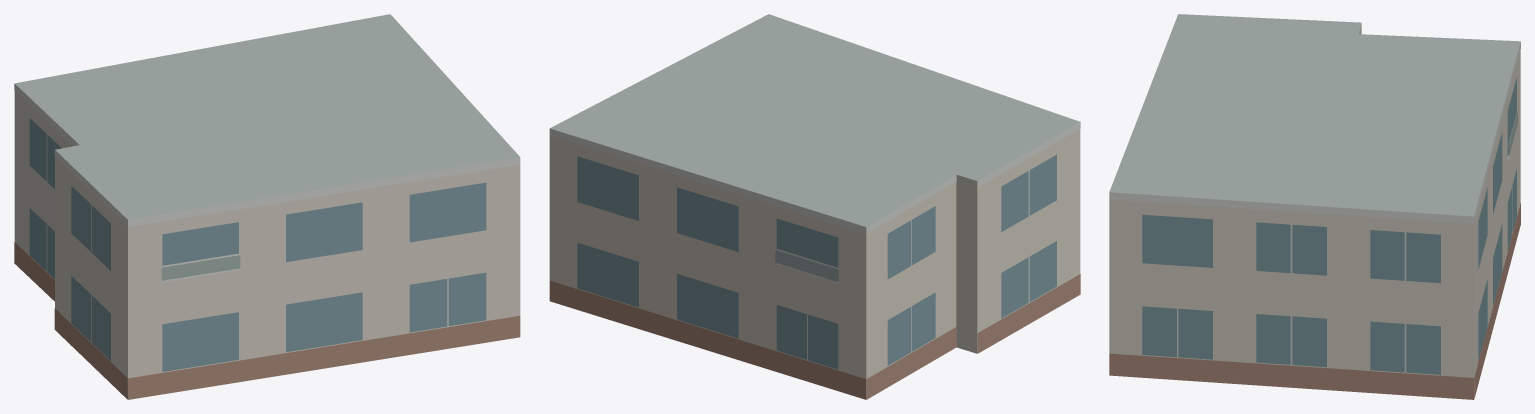
Rendered from survey-upis-32782163.glb.
3 renders of one model, left to right at view 1: azimuth 30°, elevation 25°; view 2: azimuth 150°, elevation 25°; view 3: azimuth 270°, elevation 25°, orthographic. The views are drawn at different scales.
Parts seen in each view (by area): view 1: survey-upis-32782163.tmp; view 2: survey-upis-32782163.tmp; view 3: survey-upis-32782163.tmp.
Part boxes in pixels (x1,y1,x2,y2): survey-upis-32782163.tmp: (14, 14, 520, 399); survey-upis-32782163.tmp: (549, 14, 1080, 399); survey-upis-32782163.tmp: (1109, 14, 1520, 399).
Bounding box in the file's own units: 14.47 × 6.1 × 12.42.
